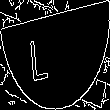L_N: (44, 27, 66, 83)
